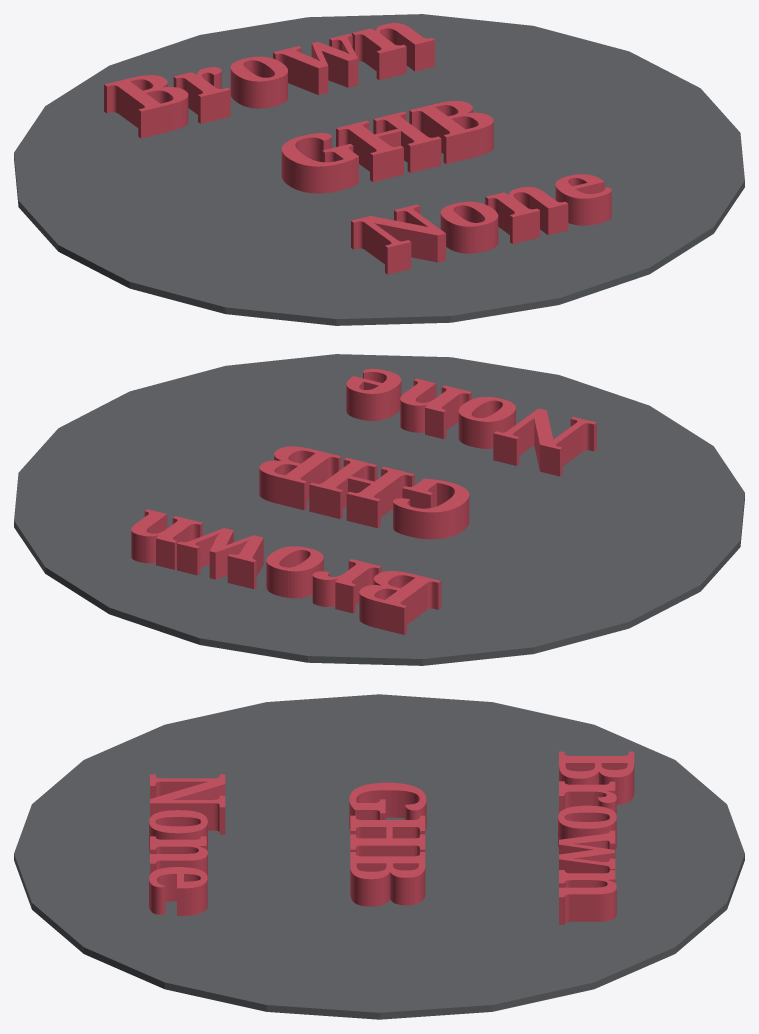
3 views of the same model, one above another, from view 1: azimuth 30°, elevation 25°; view 2: azimuth 150°, elevation 25°; view 3: azimuth 270°, elevation 25° (orthographic).
Parts seen in each view (by area): view 1: Mesh_Mesh_head_geo001_lambert2SG001; view 2: Mesh_Mesh_head_geo001_lambert2SG001; view 3: Mesh_Mesh_head_geo001_lambert2SG001.
Part boxes in pixels (<box>): Mesh_Mesh_head_geo001_lambert2SG001: <box>14,14,744,325</box>; Mesh_Mesh_head_geo001_lambert2SG001: <box>14,354,744,665</box>; Mesh_Mesh_head_geo001_lambert2SG001: <box>14,694,744,1019</box>.
Bounding box in the file's own units: 199 × 10 × 193.
